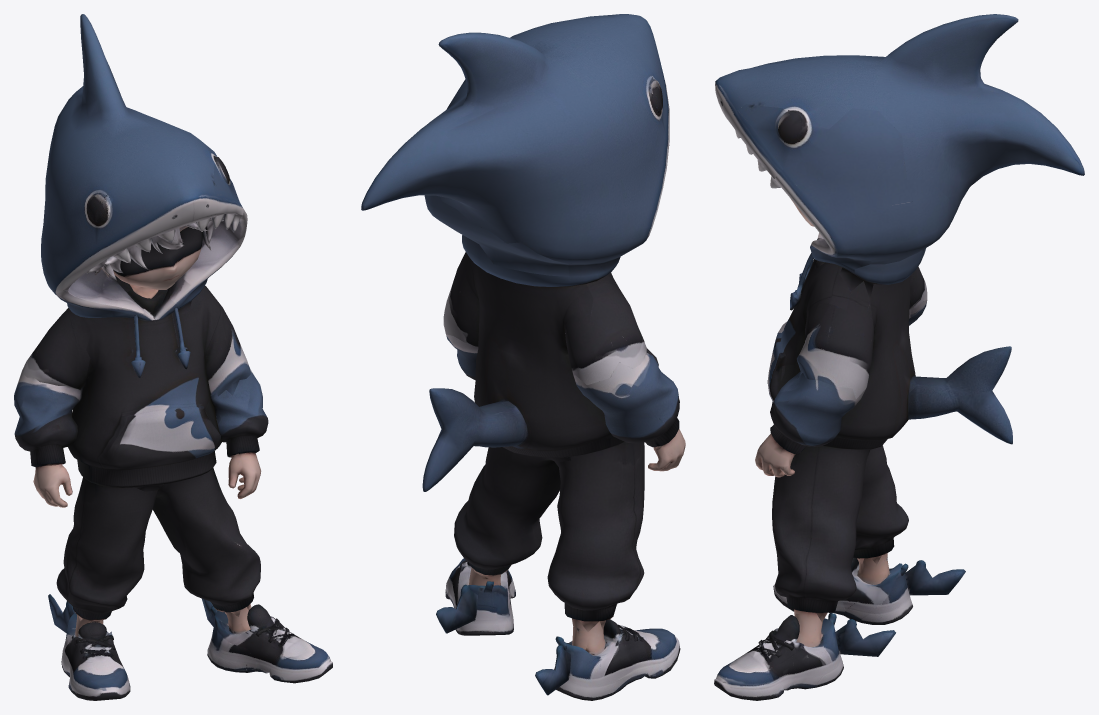
The model's file is shark hoodie chibi 3d model_Clone1.glb.
3 views of the same model, side by side, from view 1: azimuth 30°, elevation 25°; view 2: azimuth 150°, elevation 25°; view 3: azimuth 270°, elevation 25° (orthographic). The views are drawn at different scales.
Parts seen in each view (by area): view 1: tripo_part_0, tripo_part_5, tripo_part_6, tripo_part_7, tripo_part_3, tripo_part_11, tripo_part_4, tripo_part_1, tripo_part_8, tripo_part_16, tripo_part_12, tripo_part_15 (+6 smaller); view 2: tripo_part_0, tripo_part_5, tripo_part_6, tripo_part_7, tripo_part_11, tripo_part_1, tripo_part_16, tripo_part_13, tripo_part_4, tripo_part_3, tripo_part_15, tripo_part_20 (+4 smaller); view 3: tripo_part_0, tripo_part_4, tripo_part_7, tripo_part_5, tripo_part_3, tripo_part_15, tripo_part_13, tripo_part_12, tripo_part_6, tripo_part_1, tripo_part_20, tripo_part_21 (+3 smaller).
Boxes of the visible parts, <box> form: tripo_part_0: <box>41,14,243,322</box>; tripo_part_5: <box>68,286,226,491</box>; tripo_part_6: <box>56,477,157,621</box>; tripo_part_7: <box>153,468,260,616</box>; tripo_part_3: <box>207,604,332,683</box>; tripo_part_11: <box>14,362,85,467</box>; tripo_part_4: <box>113,155,247,315</box>; tripo_part_1: <box>61,613,130,700</box>; tripo_part_8: <box>100,225,202,318</box>; tripo_part_16: <box>23,308,90,387</box>; tripo_part_12: <box>210,369,268,457</box>; tripo_part_15: <box>205,308,250,396</box>; tripo_part_0: <box>361,14,669,286</box>; tripo_part_5: <box>466,256,658,457</box>; tripo_part_6: <box>547,442,644,631</box>; tripo_part_7: <box>454,447,570,576</box>; tripo_part_11: <box>573,353,679,450</box>; tripo_part_1: <box>554,619,680,700</box>; tripo_part_16: <box>565,275,646,384</box>; tripo_part_13: <box>422,388,528,491</box>; tripo_part_4: <box>424,79,569,276</box>; tripo_part_3: <box>445,558,515,635</box>; tripo_part_15: <box>443,252,479,344</box>; tripo_part_20: <box>436,584,477,633</box>; tripo_part_0: <box>715,14,1084,299</box>; tripo_part_4: <box>735,104,960,291</box>; tripo_part_7: <box>772,446,870,622</box>; tripo_part_5: <box>767,259,916,449</box>; tripo_part_3: <box>714,613,843,700</box>; tripo_part_15: <box>797,281,874,398</box>; tripo_part_13: <box>908,346,1012,444</box>; tripo_part_12: <box>770,371,865,454</box>; tripo_part_6: <box>853,445,908,564</box>; tripo_part_1: <box>773,557,912,624</box>; tripo_part_20: <box>835,619,895,656</box>; tripo_part_21: <box>905,560,965,595</box>.
Bounding box in the file's own units: 0.4382 × 1 × 0.5349.
36 materials, 36 textured.
